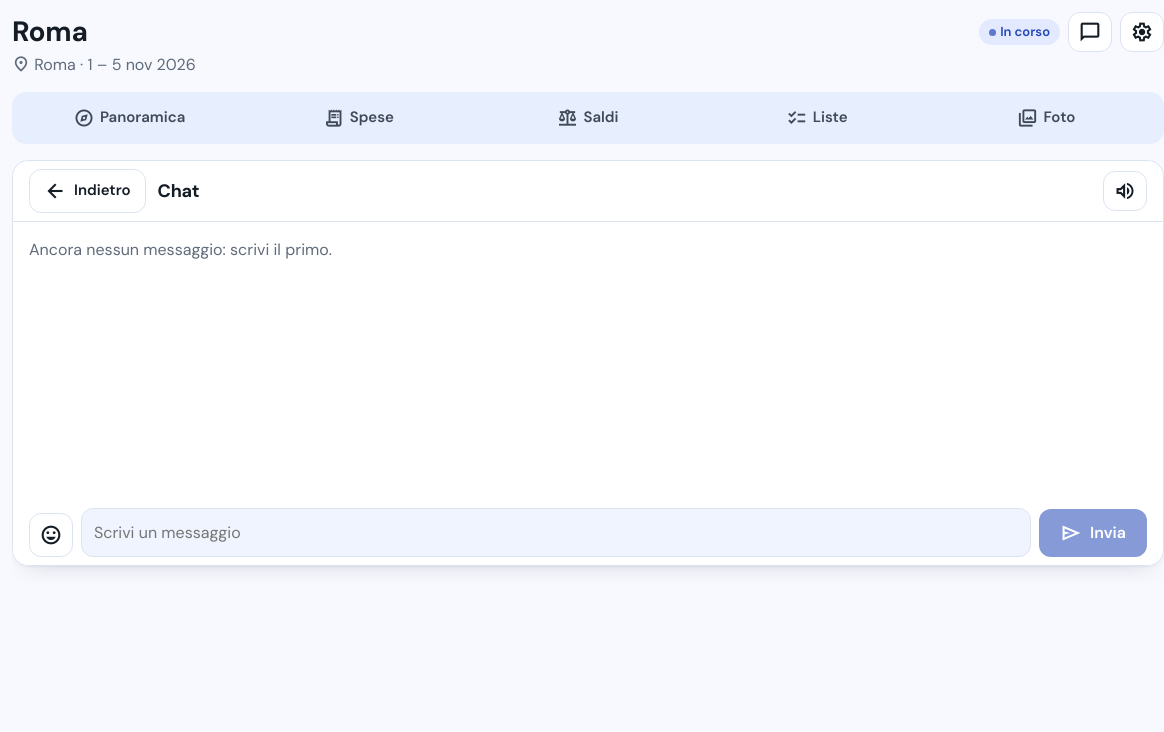
Scenario: il mio messaggio compare una volta anche se torna dal canale
This screenshot has width=1164, height=732.
Type "Ci vediamo alle 20" into the text box labelled "Scrivi un messaggio".
click(556, 532); type("Ci vediamo alle 20")  # box [81,508,1031,557]
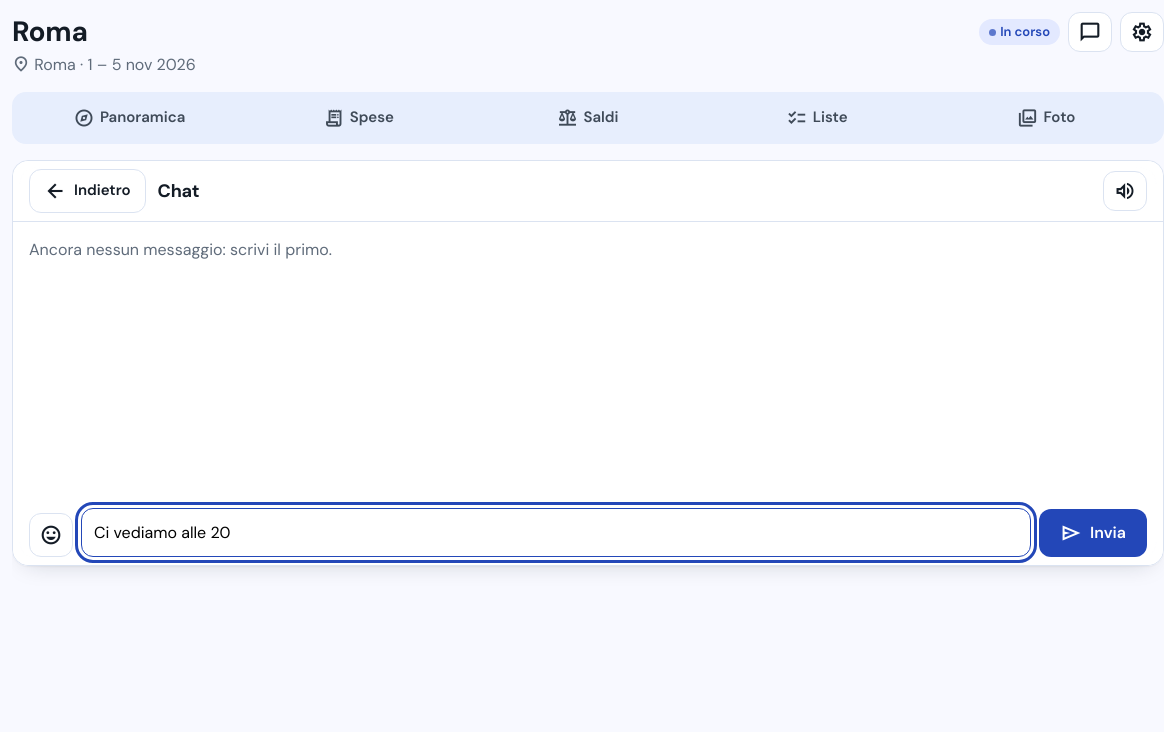
Click the button "Invia".
click(1093, 533)  # box [1039,509,1147,557]
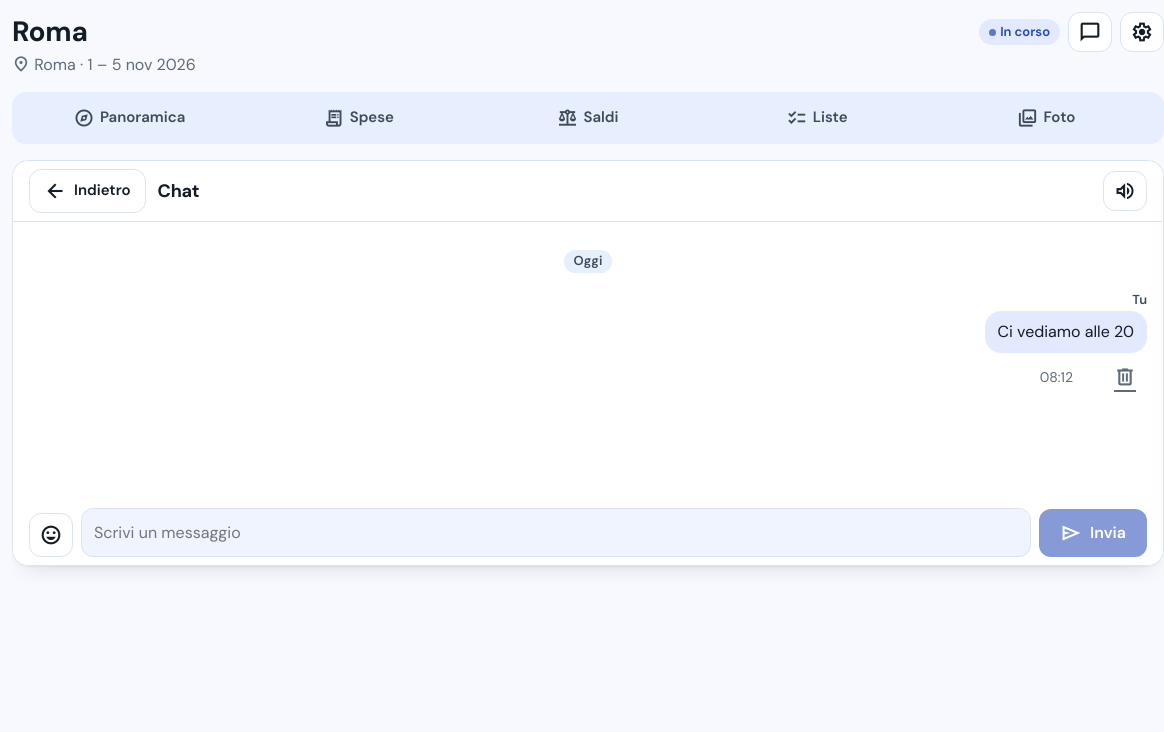
Check: the text "Ci vediamo alle 20" is shown once, box [984,312,1147,353]
Check: the text box labelled "Scrivi un messaggio" is empty, box [81,508,1031,557]
